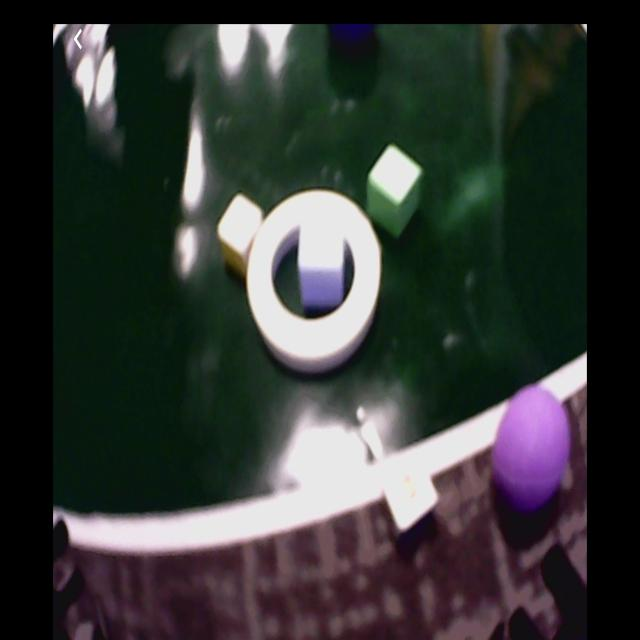ball: (493, 386, 572, 510), (329, 22, 378, 50)
